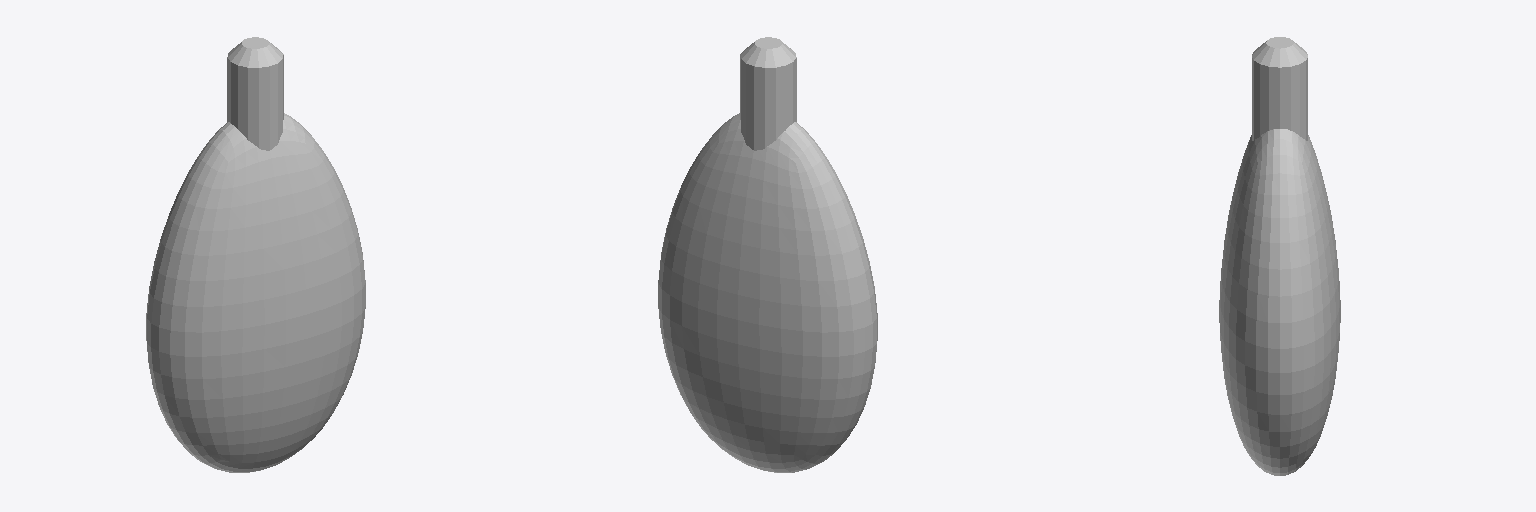
Rendered from Leaf3.obj.
3 views of the same model, side by side, from view 1: azimuth 30°, elevation 25°; view 2: azimuth 150°, elevation 25°; view 3: azimuth 270°, elevation 25° (orthographic).
Parts seen in each view (by area): view 1: Cube.003; view 2: Cube.003; view 3: Cube.003.
Boxes of the visible parts, box(x1,y1,x2,y2) form: Cube.003: box(146, 37, 365, 472); Cube.003: box(658, 37, 877, 472); Cube.003: box(1219, 37, 1340, 475).
Size of the model in its own units: 1.69 by 3.28 by 0.8439.